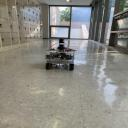cart: (45, 48, 75, 70)
